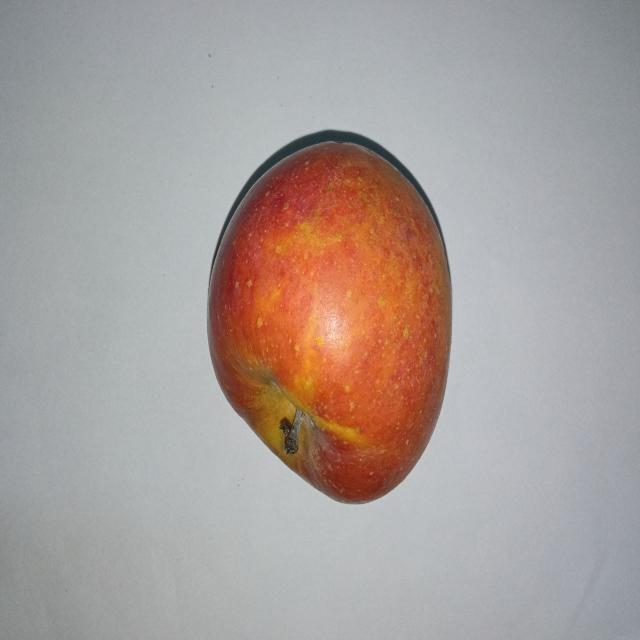fresh_apple: (207, 139, 451, 504)
